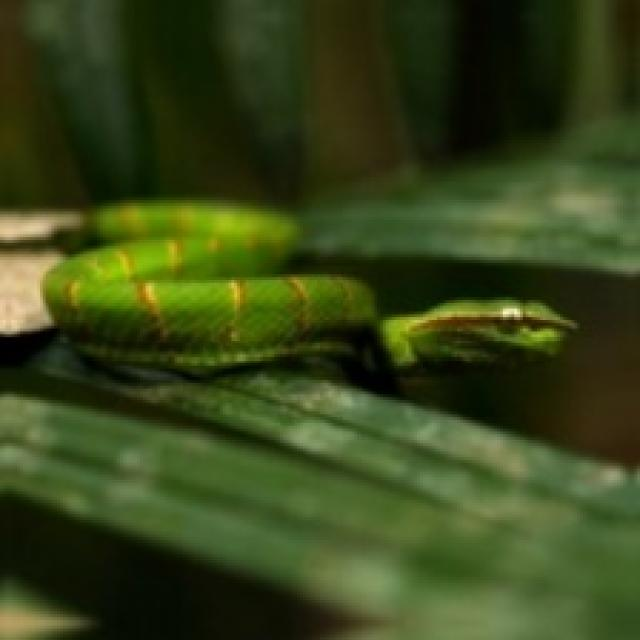north ph temple pitviper: (43, 200, 574, 371)
